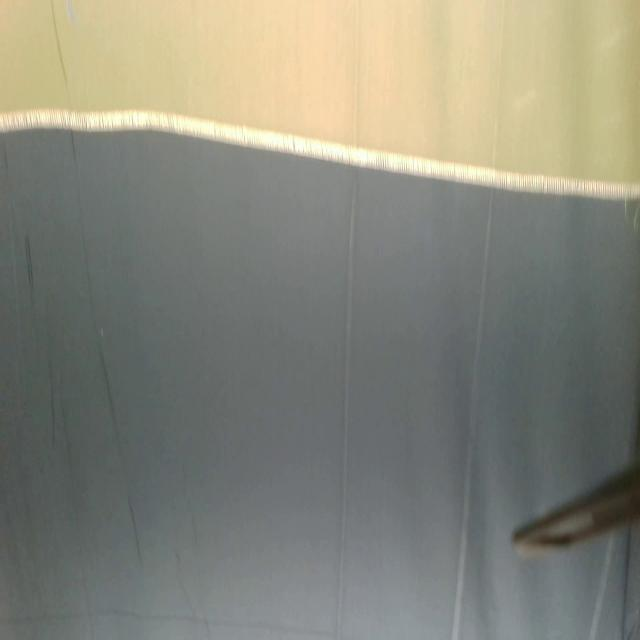crease: (51, 1, 144, 567), (448, 3, 506, 640), (335, 0, 363, 635), (588, 532, 616, 640)
